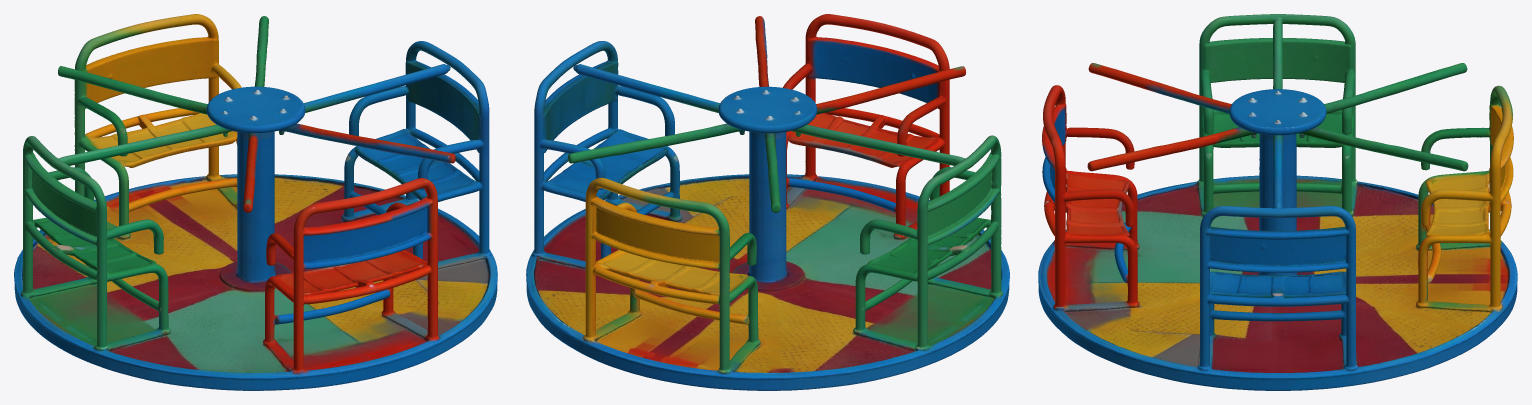
The model's file is Carousel.glb.
The picture shows the model from 3 angles, left to right: view 1: azimuth 30°, elevation 25°; view 2: azimuth 150°, elevation 25°; view 3: azimuth 270°, elevation 25°; orthographic projection.
Visible parts, largest first — view 1: tripo_node_40d7552c-2e6f-494d-a1d0-80c63d4678e3; view 2: tripo_node_40d7552c-2e6f-494d-a1d0-80c63d4678e3; view 3: tripo_node_40d7552c-2e6f-494d-a1d0-80c63d4678e3.
Part boxes in pixels (x1,y1,x2,y2): tripo_node_40d7552c-2e6f-494d-a1d0-80c63d4678e3: (14, 14, 497, 390); tripo_node_40d7552c-2e6f-494d-a1d0-80c63d4678e3: (526, 14, 1009, 390); tripo_node_40d7552c-2e6f-494d-a1d0-80c63d4678e3: (1038, 14, 1517, 390).
Size of the model in its own units: 1 by 0.4253 by 0.9992.
Materials: 1 (1 with a texture image).
